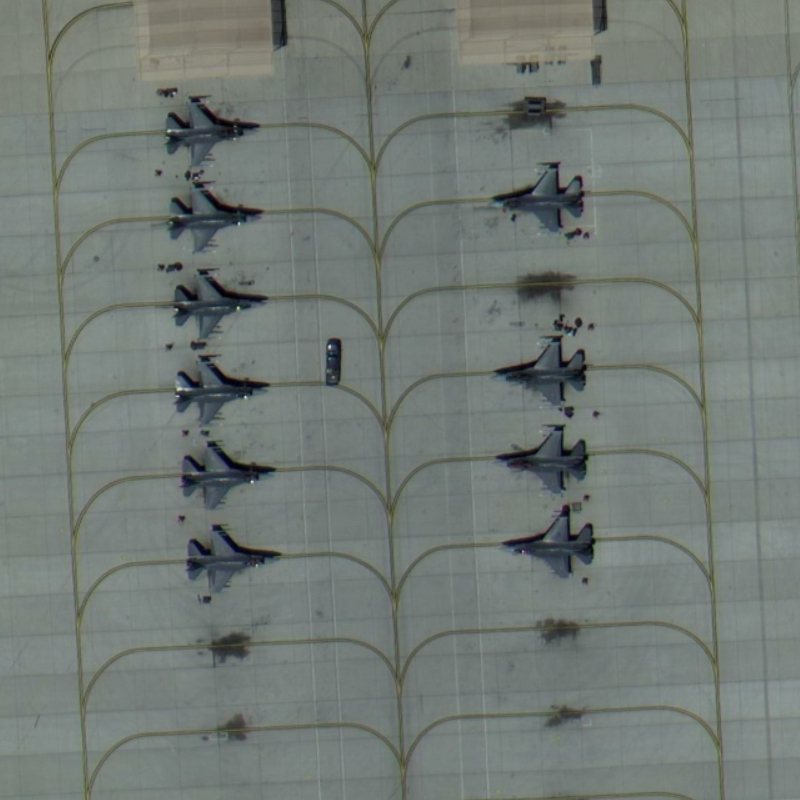A5: (481, 323, 591, 421), (154, 178, 270, 264), (154, 89, 269, 173), (488, 505, 603, 587), (162, 267, 279, 347), (483, 158, 596, 239), (170, 348, 274, 435), (180, 519, 287, 602), (173, 438, 282, 516), (484, 422, 592, 500)
